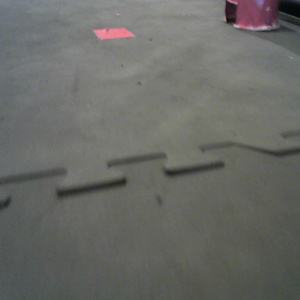right: (223, 1, 281, 32)
